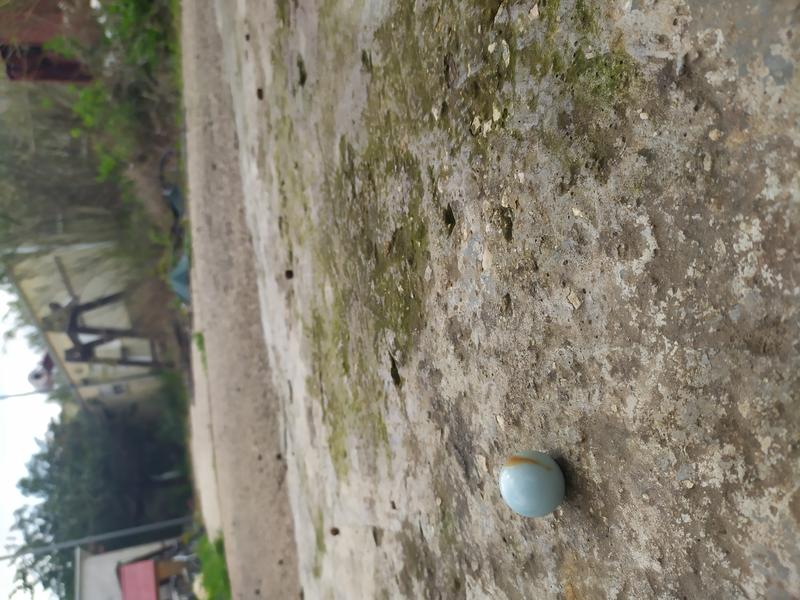Warning: (497, 448, 567, 519)
